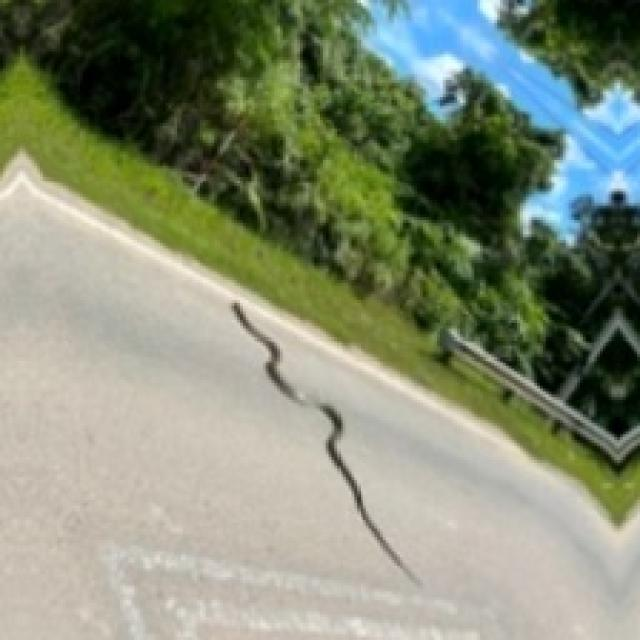king cobra: (231, 303, 420, 586)
